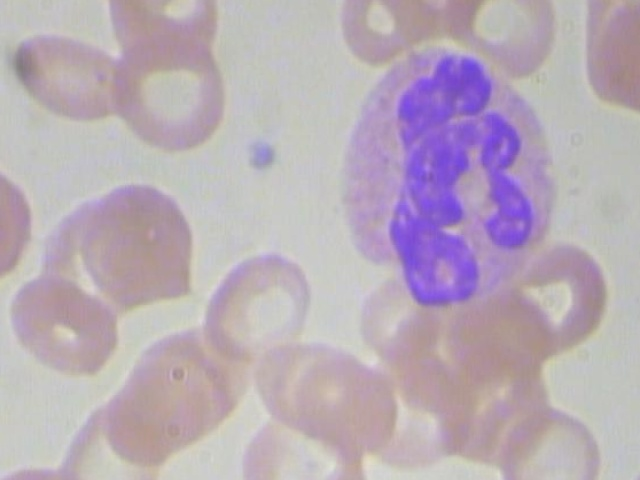Platelets: (239, 134, 282, 174)
RBC: (70, 170, 202, 317), (105, 32, 237, 158), (192, 242, 324, 368), (0, 14, 129, 128), (2, 262, 120, 376), (41, 389, 185, 480), (238, 404, 381, 480), (445, 0, 569, 86), (486, 401, 618, 480), (0, 151, 37, 301)
WBC: (316, 42, 583, 319)
